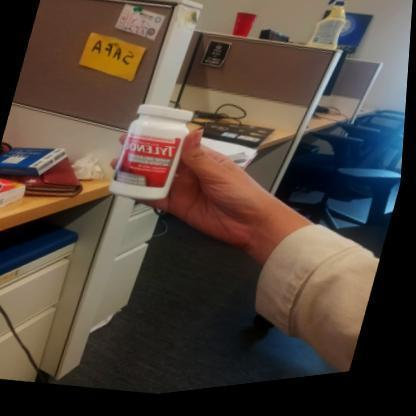jar: (108, 94, 195, 210)
